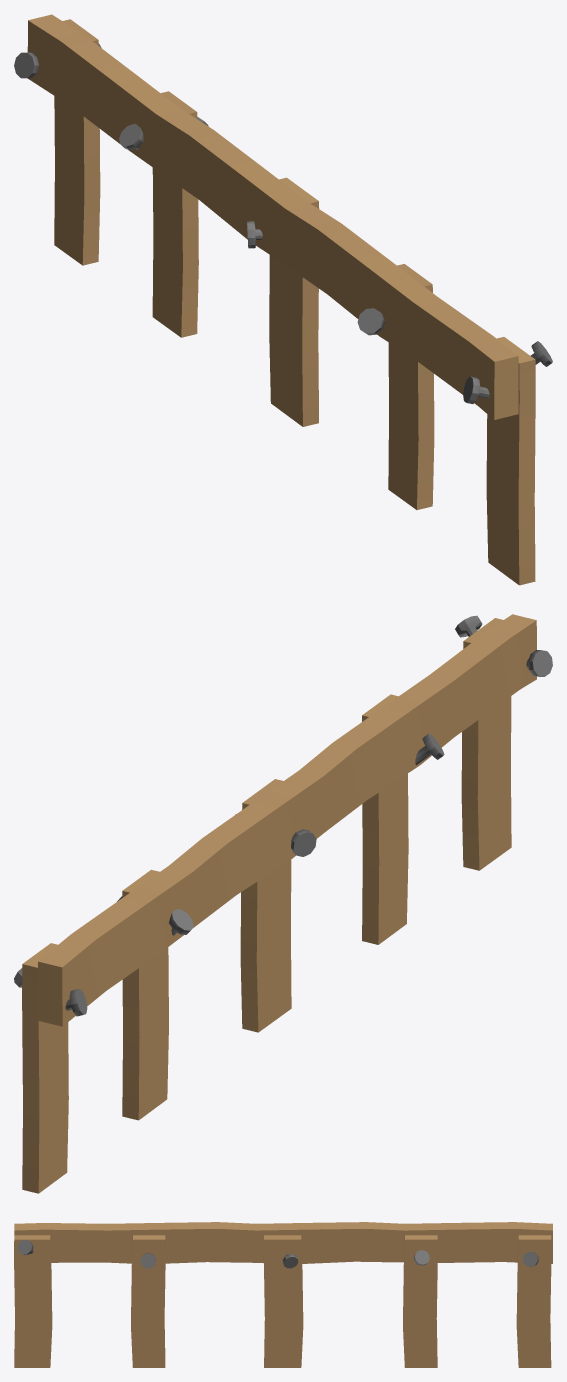
Rendered from SM_PlankRailingEndcap.fbx.
3 views of the same model, one above another, from view 1: azimuth 30°, elevation 25°; view 2: azimuth 150°, elevation 25°; view 3: azimuth 270°, elevation 25° (orthographic). The views are drawn at different scales.
Visible parts, largest first — view 1: PlankRailingEndcap; view 2: PlankRailingEndcap; view 3: PlankRailingEndcap.
Part boxes in pixels (x1,y1,x2,y2): PlankRailingEndcap: (14, 14, 552, 585); PlankRailingEndcap: (14, 614, 552, 1193); PlankRailingEndcap: (14, 1222, 552, 1367).
Bounding box in the file's own units: 43.99 × 110 × 400.
